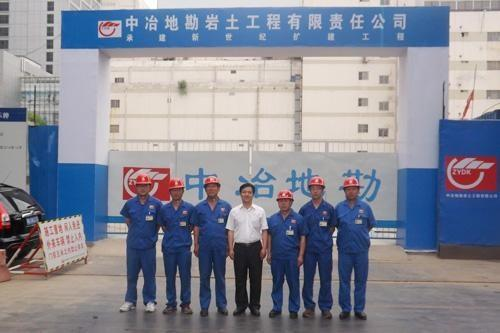helmet: (274, 189, 296, 208), (340, 177, 364, 194), (165, 178, 186, 194), (132, 174, 152, 190), (307, 176, 327, 192), (203, 175, 221, 191)
no-helmet: (237, 182, 258, 197)
no-vest: (334, 200, 368, 252), (269, 213, 304, 260), (196, 201, 230, 249), (127, 195, 157, 249), (303, 200, 334, 251), (159, 204, 195, 247), (231, 204, 265, 244)
person: (120, 174, 161, 316), (335, 176, 370, 319), (230, 180, 263, 318), (163, 176, 194, 315), (302, 177, 332, 320), (198, 175, 228, 317), (267, 192, 300, 316)
